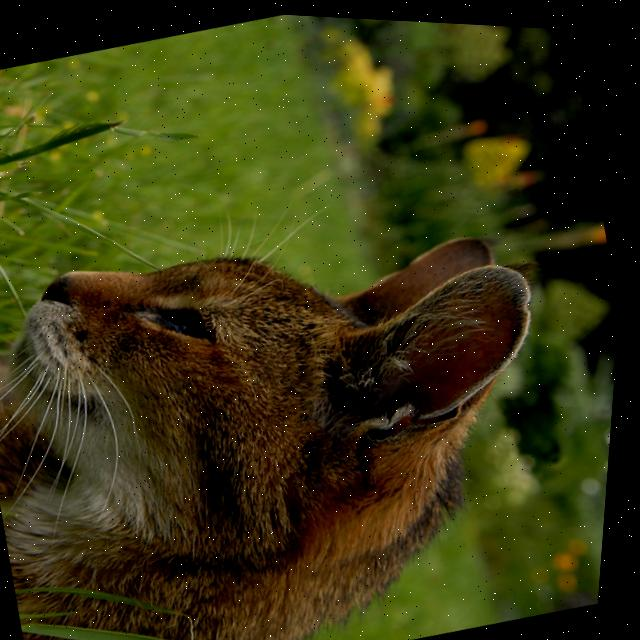Abyssinian: (0, 150, 627, 640)
